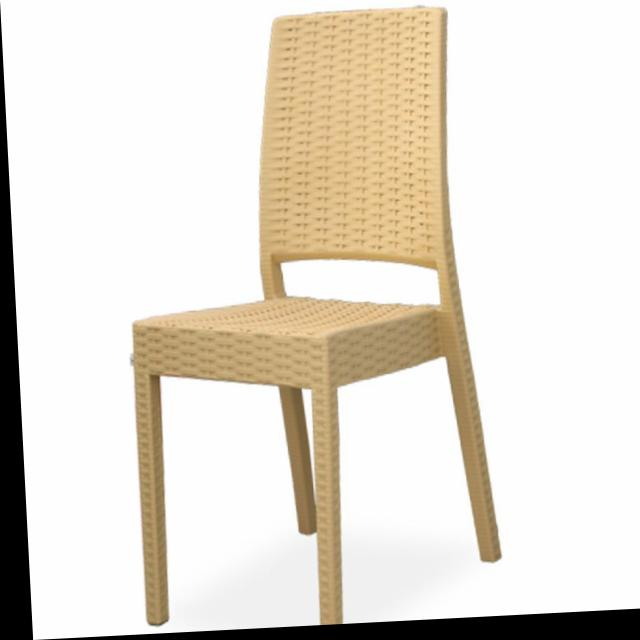Chair: (115, 7, 498, 635)
